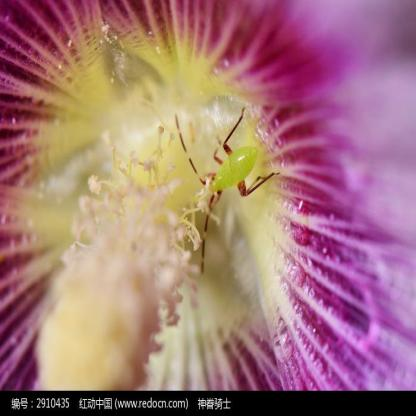aphid: (177, 108, 274, 262)
